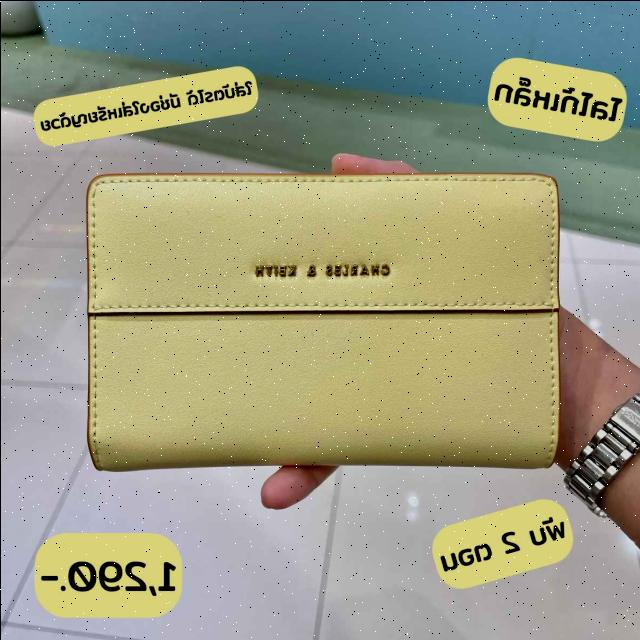Handbag: (88, 139, 558, 501)
